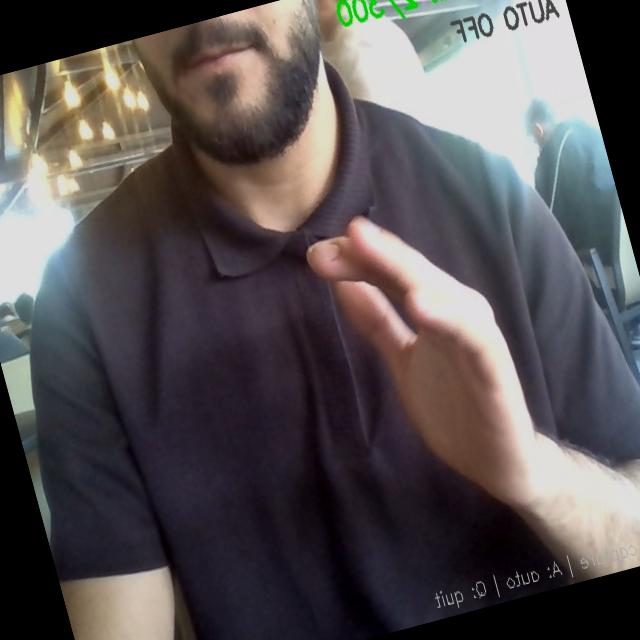Hand: (308, 218, 541, 507)
